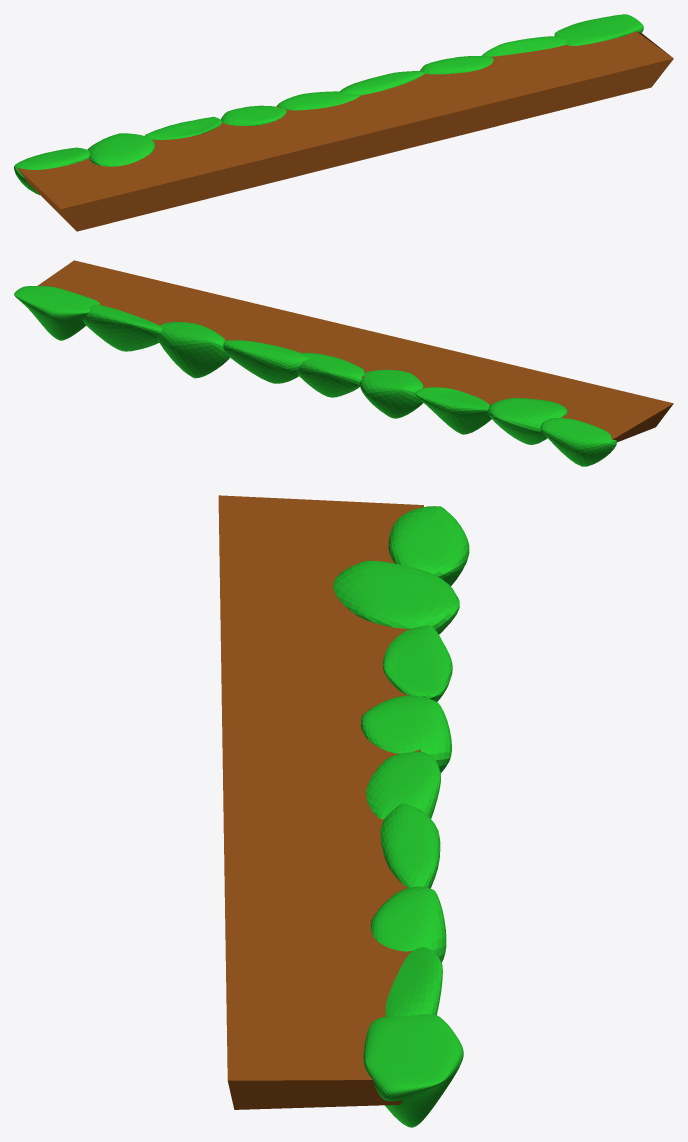
The model's file is stage_concept.fbx.
3 renders of one model, top to bottom at view 1: azimuth 30°, elevation 25°; view 2: azimuth 150°, elevation 25°; view 3: azimuth 270°, elevation 25°, orthographic. The views are drawn at different scales.
Parts seen in each view (by area): view 1: Cube, Cube.001, Cube.002, Cube.009, Cube.005, Cube.004, Cube.006, Cube.003, Cube.007, Cube.008; view 2: Cube, Cube.007, Cube.001, Cube.009, Cube.008, Cube.002, Cube.006, Cube.004, Cube.003, Cube.005; view 3: Cube, Cube.001, Cube.002, Cube.009, Cube.004, Cube.007, Cube.006, Cube.003, Cube.005, Cube.008.
Part boxes in pixels (x1,y1,x2,y2): Cube: [18, 31, 673, 231]; Cube.001: [554, 14, 643, 45]; Cube.002: [87, 133, 154, 166]; Cube.009: [14, 147, 89, 195]; Cube.005: [277, 91, 359, 110]; Cube.004: [220, 105, 286, 125]; Cube.006: [340, 71, 424, 95]; Cube.003: [145, 116, 221, 139]; Cube.007: [420, 56, 493, 74]; Cube.008: [482, 36, 566, 56]; Cube: [37, 260, 673, 442]; Cube.007: [157, 322, 229, 378]; Cube.001: [14, 286, 99, 340]; Cube.009: [540, 418, 616, 466]; Cube.008: [83, 304, 161, 351]; Cube.002: [488, 398, 567, 444]; Cube.006: [223, 340, 308, 383]; Cube.004: [359, 369, 423, 418]; Cube.003: [415, 387, 491, 434]; Cube.005: [297, 352, 364, 397]; Cube: [218, 495, 423, 1109]; Cube.001: [363, 1014, 463, 1127]; Cube.002: [333, 560, 459, 634]; Cube.009: [388, 506, 469, 585]; Cube.004: [361, 695, 451, 773]; Cube.007: [370, 886, 446, 962]; Cube.006: [380, 803, 440, 888]; Cube.003: [383, 625, 452, 701]; Cube.005: [366, 751, 440, 819]; Cube.008: [385, 947, 442, 1016].
Size of the model in its own units: 5271 by 409 by 941.
